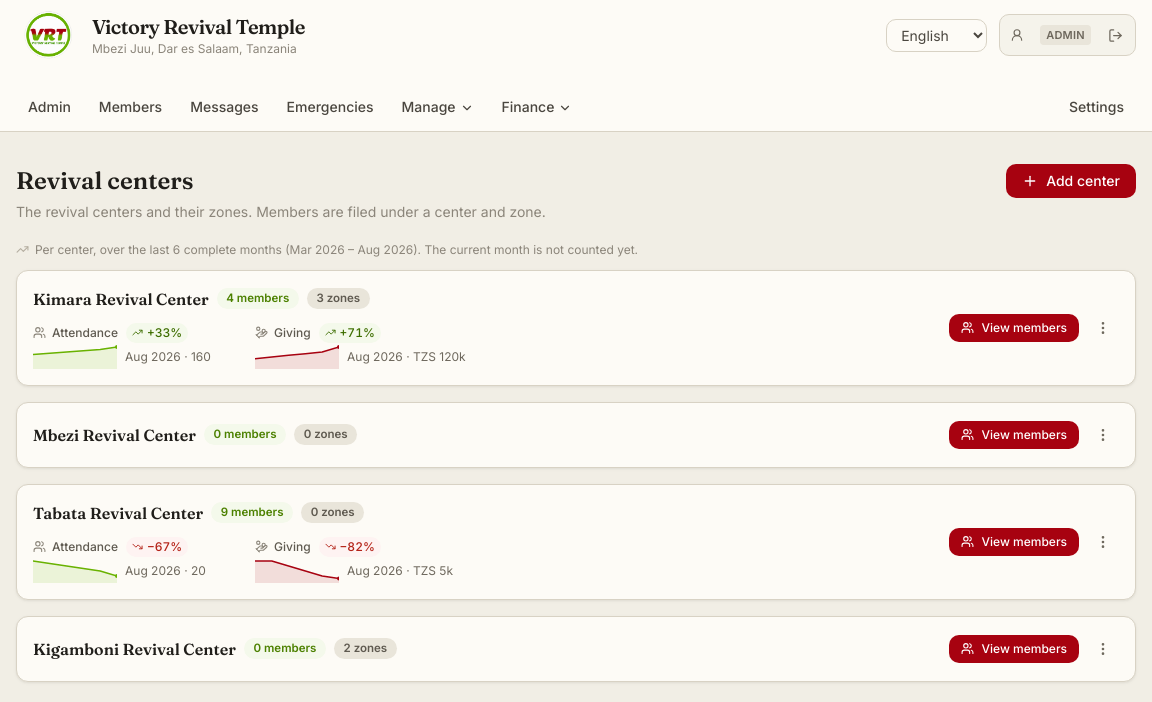
Revival Centers › says who leads each zone on the roster card
Expected: the button "Kimara Revival Center" is shown, [33,286,209,310]
Click the button "View members" in the row of "+71%". click: [1014, 328]
box: [948,314,1079,342]
(page scrolled)
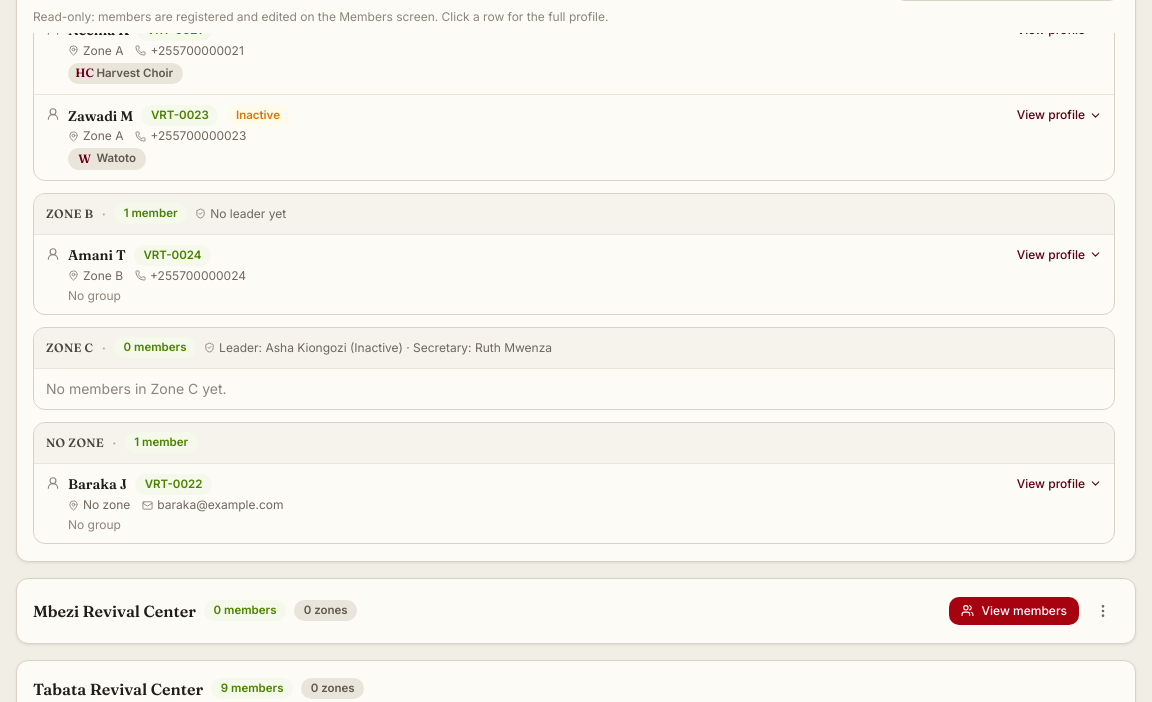
Expected: the text "No leader yet" is shown, [195,206,286,222]
Expected: the text "Leader: Asha Kiongozi (Inactive) · Secretary: Ruth Mwenza" is shown, [204,340,552,356]
